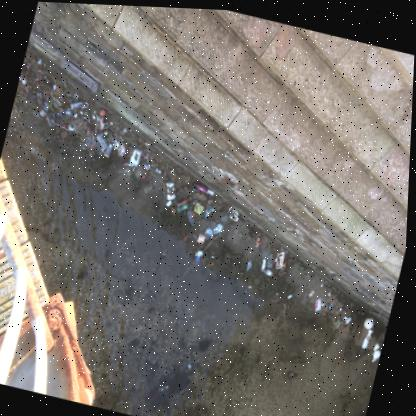Metal: (243, 347, 249, 359), (160, 383, 170, 389), (289, 369, 296, 374), (345, 413, 349, 416)
Paper: (347, 313, 352, 320)
Plastic: (96, 130, 107, 148), (140, 150, 150, 169), (279, 257, 288, 273), (187, 208, 196, 224), (203, 204, 215, 216), (194, 200, 205, 213), (178, 200, 192, 210), (55, 122, 70, 130), (177, 196, 190, 205), (195, 181, 207, 190), (197, 231, 206, 242), (205, 226, 214, 237), (379, 347, 384, 366), (316, 294, 322, 308), (255, 234, 263, 244), (263, 266, 274, 273), (281, 243, 290, 251), (246, 218, 256, 223), (239, 212, 248, 217), (50, 98, 53, 110), (308, 274, 317, 278), (100, 108, 105, 115), (83, 100, 88, 107), (383, 337, 386, 346), (370, 325, 375, 330), (104, 151, 109, 156), (142, 173, 145, 177)
Waste: (130, 147, 142, 163), (166, 180, 176, 198), (96, 116, 106, 129), (214, 221, 225, 232), (70, 99, 82, 109), (230, 206, 239, 219), (104, 141, 113, 154), (117, 141, 125, 155), (366, 314, 375, 325), (374, 346, 382, 358), (268, 251, 274, 266), (265, 363, 273, 374), (364, 334, 370, 345), (375, 338, 382, 347), (262, 256, 267, 268), (149, 294, 156, 302), (39, 109, 46, 116), (196, 248, 204, 254), (206, 187, 214, 193), (310, 287, 316, 294), (248, 258, 252, 268), (114, 140, 119, 148), (330, 299, 336, 305), (337, 317, 342, 324), (44, 101, 48, 109), (166, 199, 172, 204), (196, 253, 201, 259), (156, 166, 161, 172), (36, 58, 41, 64), (128, 162, 138, 165), (64, 109, 70, 114), (68, 125, 74, 130), (368, 329, 372, 336), (340, 303, 345, 308), (21, 78, 25, 84), (131, 141, 138, 144), (83, 110, 88, 114), (19, 74, 22, 80), (289, 291, 293, 295), (73, 112, 77, 116), (104, 130, 108, 134), (329, 288, 332, 293), (229, 205, 232, 210), (114, 136, 117, 141), (193, 185, 195, 192), (323, 299, 326, 303), (321, 280, 325, 283), (79, 110, 83, 113), (250, 283, 253, 286), (171, 168, 174, 171), (212, 253, 215, 256), (63, 123, 66, 126), (92, 125, 95, 128), (87, 126, 90, 129), (101, 131, 103, 134), (60, 112, 62, 115), (84, 120, 87, 122)
